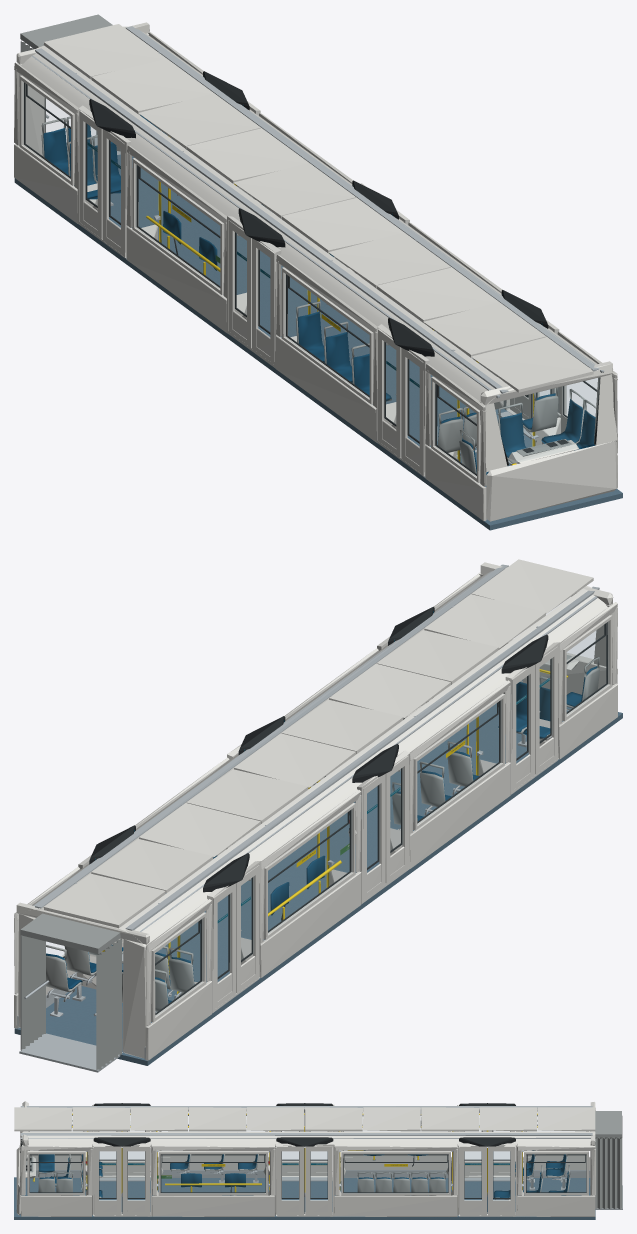
Rendered from mark-v-a-car-interior.lod0.glb.
3 views of the same model, one above another, from view 1: azimuth 30°, elevation 25°; view 2: azimuth 150°, elevation 25°; view 3: azimuth 270°, elevation 25° (orthographic). The views are drawn at different scales.
Visible parts, largest first — view 1: interior-batch-panel, interior-batch-glass, interior-batch-floor, interior-batch-metal, interior-batch-rubber, interior-batch-seat, interior-batch-shell, interior-batch-rail; view 2: interior-batch-panel, interior-batch-glass, interior-batch-floor, interior-batch-shell, interior-batch-metal, interior-batch-rubber, interior-batch-seat, interior-batch-rail; view 3: interior-batch-panel, interior-batch-glass, interior-batch-floor, interior-batch-metal, interior-batch-shell, interior-batch-rubber, interior-batch-seat, interior-batch-rail, interior-batch-information.
Boxes of the visible parts, bbox=[...] form: interior-batch-panel: bbox=[14, 22, 617, 521]; interior-batch-glass: bbox=[23, 83, 599, 476]; interior-batch-floor: bbox=[14, 154, 622, 530]; interior-batch-metal: bbox=[31, 26, 604, 519]; interior-batch-rubber: bbox=[24, 71, 603, 475]; interior-batch-seat: bbox=[43, 115, 595, 474]; interior-batch-shell: bbox=[20, 14, 596, 473]; interior-batch-rail: bbox=[146, 136, 535, 465]; interior-batch-panel: bbox=[14, 559, 617, 1060]; interior-batch-glass: bbox=[46, 614, 608, 1015]; interior-batch-floor: bbox=[14, 703, 622, 1065]; interior-batch-shell: bbox=[20, 655, 599, 1069]; interior-batch-metal: bbox=[17, 564, 599, 1072]; interior-batch-rubber: bbox=[63, 606, 607, 1014]; interior-batch-seat: bbox=[46, 666, 597, 1003]; interior-batch-rail: bbox=[102, 669, 568, 995]; interior-batch-panel: bbox=[14, 1101, 595, 1216]; interior-batch-glass: bbox=[21, 1116, 585, 1198]; interior-batch-floor: bbox=[14, 1177, 595, 1219]; interior-batch-metal: bbox=[20, 1106, 622, 1216]; interior-batch-shell: bbox=[25, 1111, 622, 1208]; interior-batch-rubber: bbox=[20, 1103, 586, 1213]; interior-batch-seat: bbox=[39, 1150, 568, 1197]; interior-batch-rail: bbox=[33, 1113, 537, 1194]; interior-batch-information: bbox=[82, 1105, 511, 1178].
Bounding box in the file's own units: 2.76 × 2.42 × 16.34.
10 materials, 3 textured.
